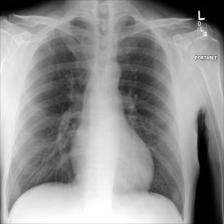normal: (5, 15, 189, 224)
